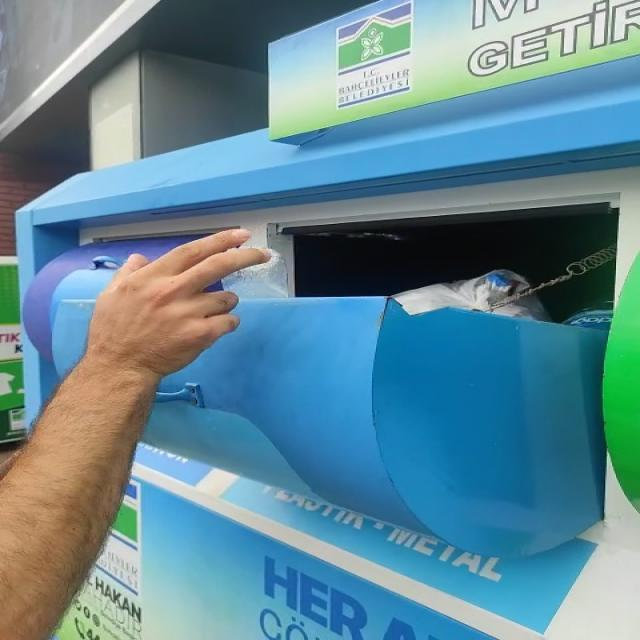Plastic: (221, 249, 288, 299)
